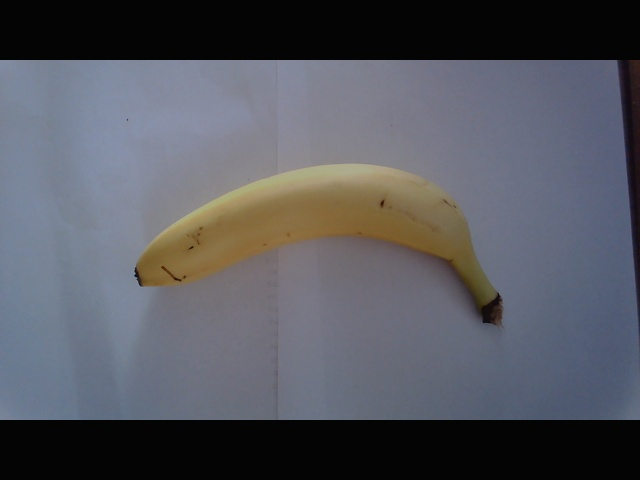banana: (128, 149, 508, 321)
